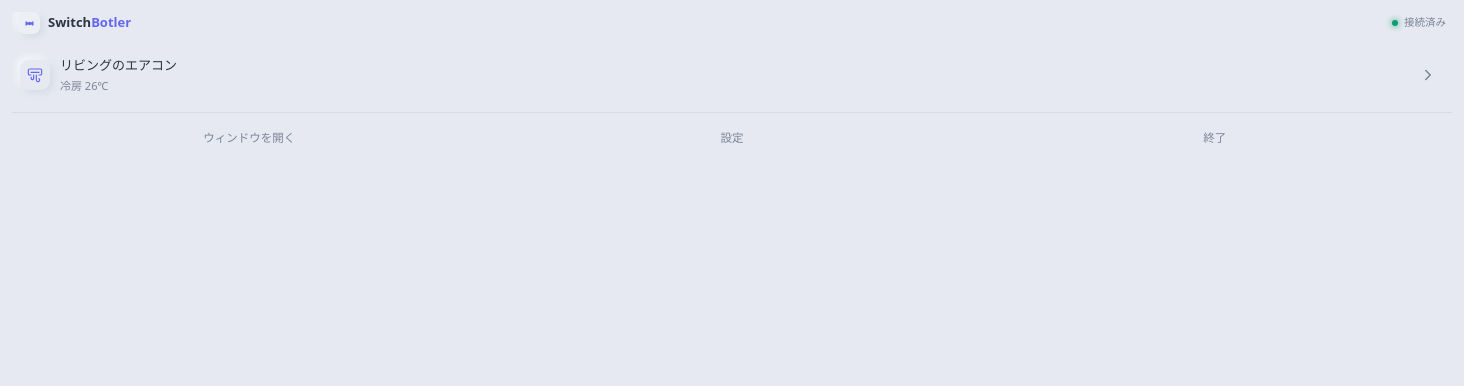
Scenario: TrayPopover › detail 型の「>」で popup 内のドリルイン詳細を開く（main は開かない）
This screenshot has width=1464, height=386.
Expected: the text "冷房 26℃" is shown, 60,78 -> 108,92
Click the button named "リビングのエアコン の詳細" at (1428, 75), box 1412,59 -> 1444,91
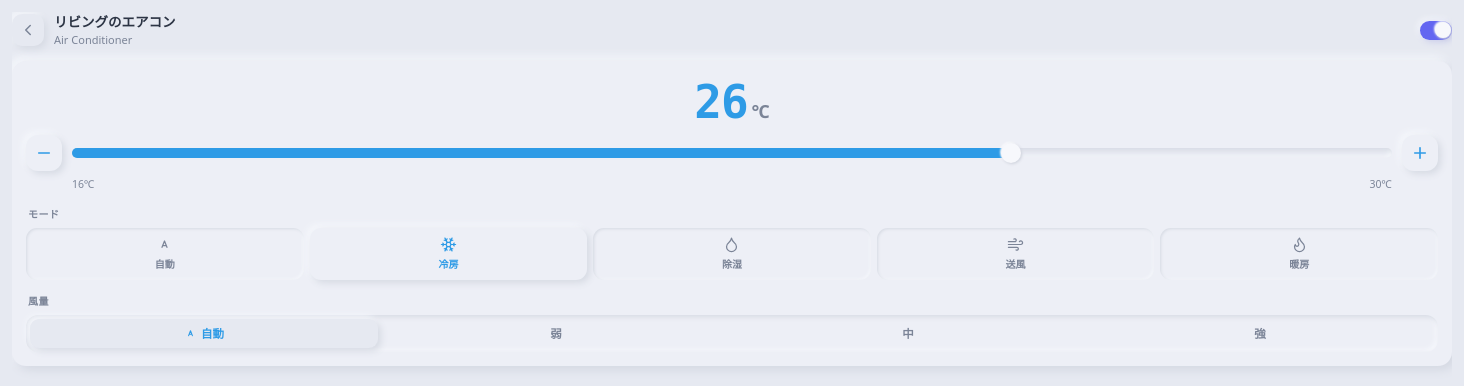
Result: the element named "モード" is shown at 26,228 -> 1438,280
Result: the element named "風量" is shown at 26,314 -> 1438,352
Result: the button named "温度を上げる" is shown at 1402,135 -> 1438,171
Click the button named "戻る" at (28, 30), box 12,14 -> 44,46
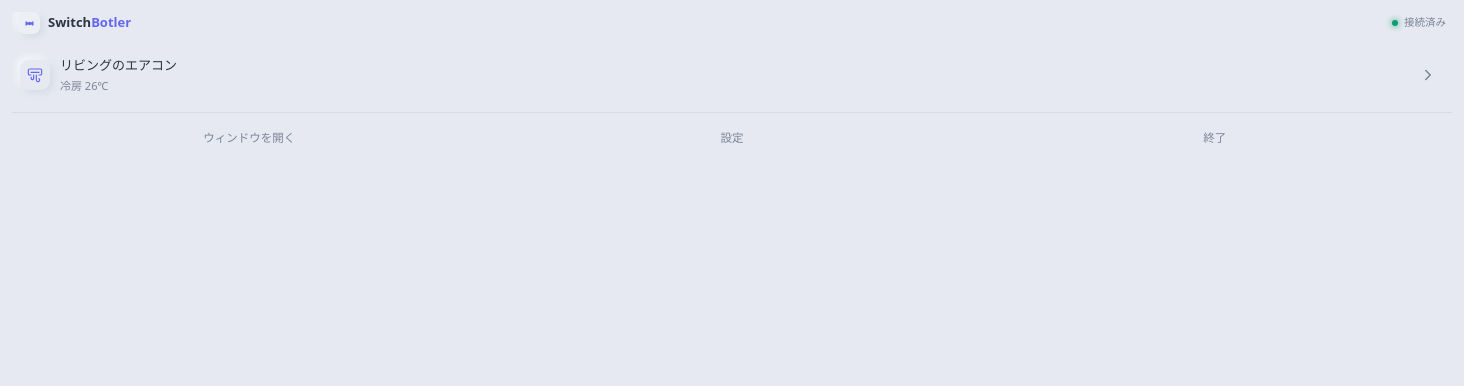
Result: the button named "リビングのエアコン の詳細" is shown at 1412,59 -> 1444,91
